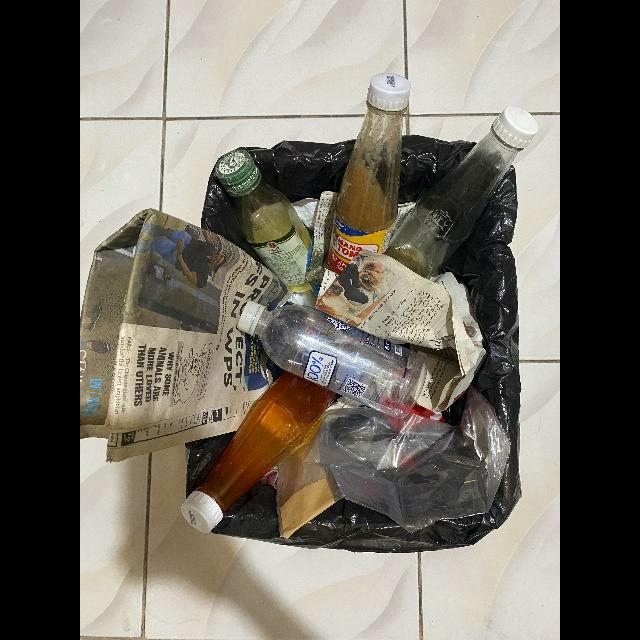glass_bottle: (387, 107, 540, 280), (181, 371, 337, 533), (326, 72, 411, 283), (215, 150, 314, 293)
paper: (80, 208, 293, 462), (306, 191, 490, 412)
plastic_bag: (277, 385, 509, 539)
plastic_bottle: (237, 301, 428, 420)
